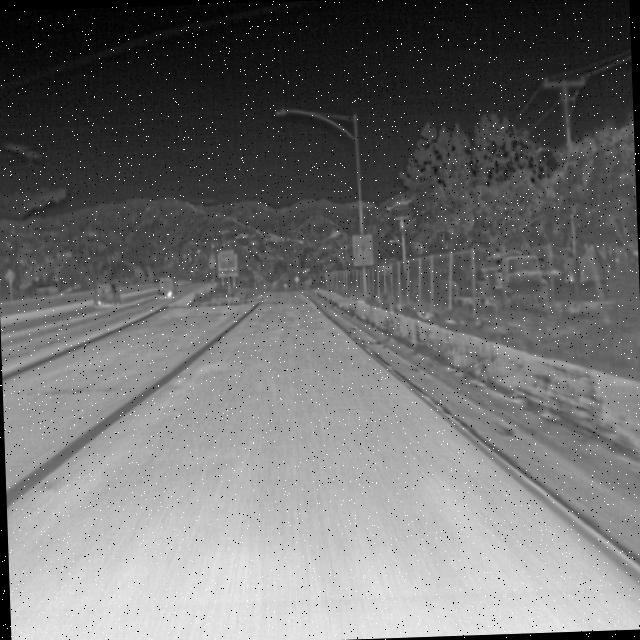Vehicle: (90, 280, 122, 311), (154, 274, 178, 299)
